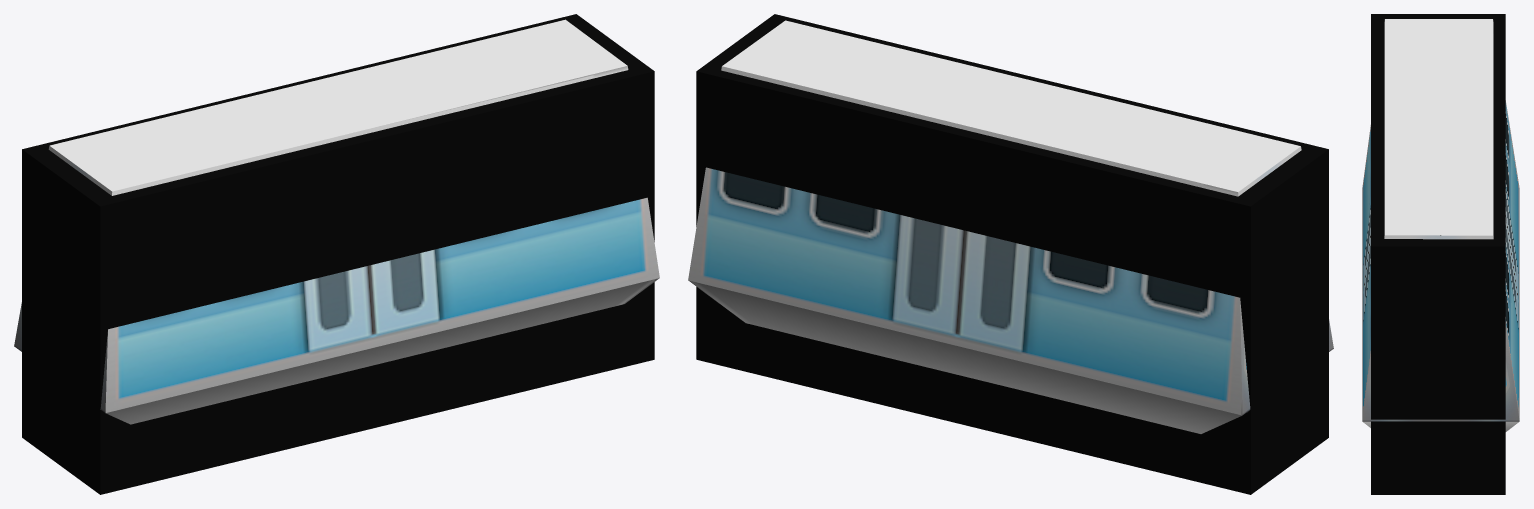
File: subwaytrain1.glb
3 views of the same model, side by side, from view 1: azimuth 30°, elevation 25°; view 2: azimuth 150°, elevation 25°; view 3: azimuth 270°, elevation 25° (orthographic). The views are drawn at different scales.
Parts seen in each view (by area): view 1: trainCollide, train1.008; view 2: train1.008, trainCollide; view 3: trainCollide, train1.008.
Part boxes in pixels (<box>): trainCollide: <box>22,14,654,494</box>; train1.008: <box>14,19,659,424</box>; train1.008: <box>688,20,1333,433</box>; trainCollide: <box>696,14,1328,494</box>; trainCollide: <box>1371,14,1505,494</box>; train1.008: <box>1362,19,1519,431</box>.
Size of the model in its own units: 14 by 7.06 by 4.
2 materials, 2 textured.
